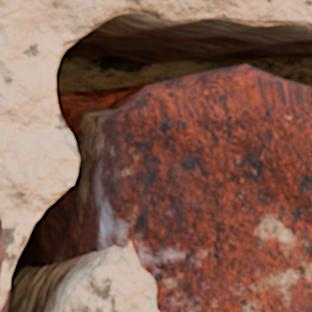brick: (114, 66, 311, 311), (0, 220, 3, 270)
crack: (1, 0, 311, 311)
